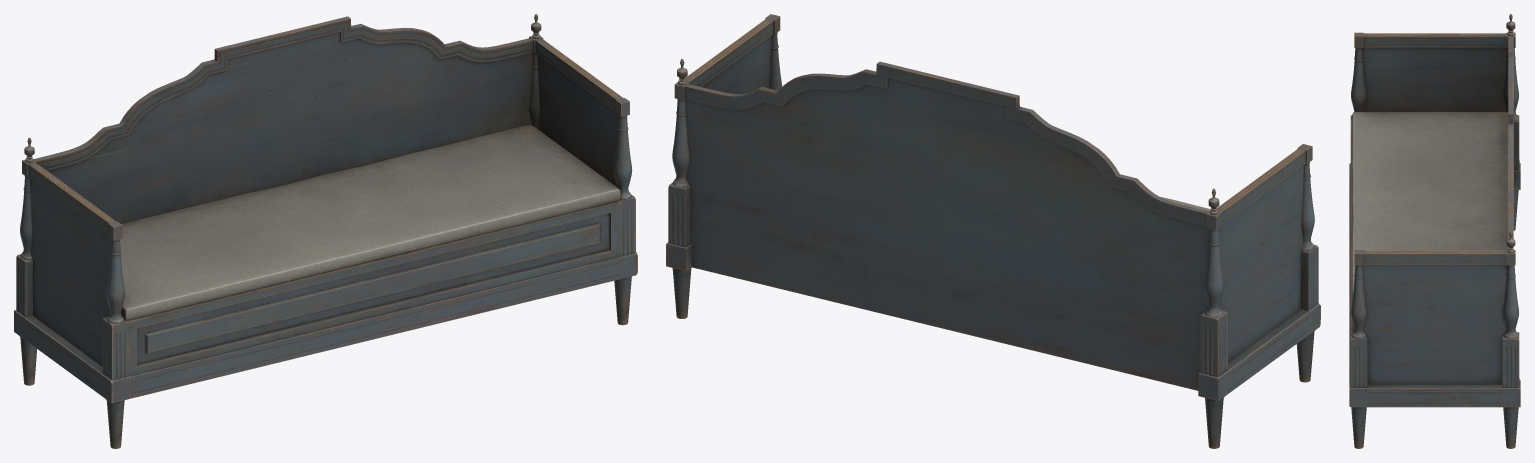
File: painted_wooden_sofa.glb
3 views of the same model, side by side, from view 1: azimuth 30°, elevation 25°; view 2: azimuth 150°, elevation 25°; view 3: azimuth 270°, elevation 25° (orthographic). The views are drawn at different scales.
Visible parts, largest first — view 1: painted_wooden_sofa; view 2: painted_wooden_sofa; view 3: painted_wooden_sofa.
Part boxes in pixels (<box>): painted_wooden_sofa: <box>14,14,637,448</box>; painted_wooden_sofa: <box>666,14,1320,448</box>; painted_wooden_sofa: <box>1349,14,1520,448</box>.
Size of the model in its own units: 2.45 by 1.28 by 0.7872.
1 material, 1 textured.
